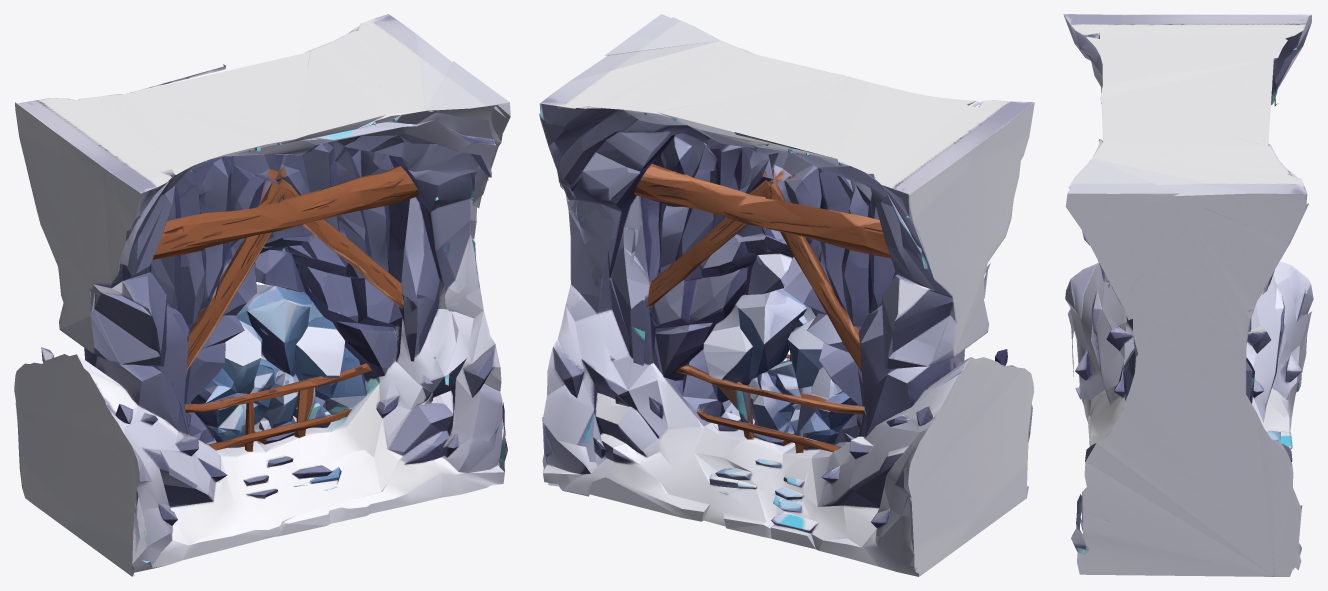
Rendered from crystal_mine.glb.
The picture shows the model from 3 angles, left to right: view 1: azimuth 30°, elevation 25°; view 2: azimuth 150°, elevation 25°; view 3: azimuth 270°, elevation 25°; orthographic projection.
Size of the model in its own units: 1.9 by 1.92 by 1.12.
1 material, 1 textured.
